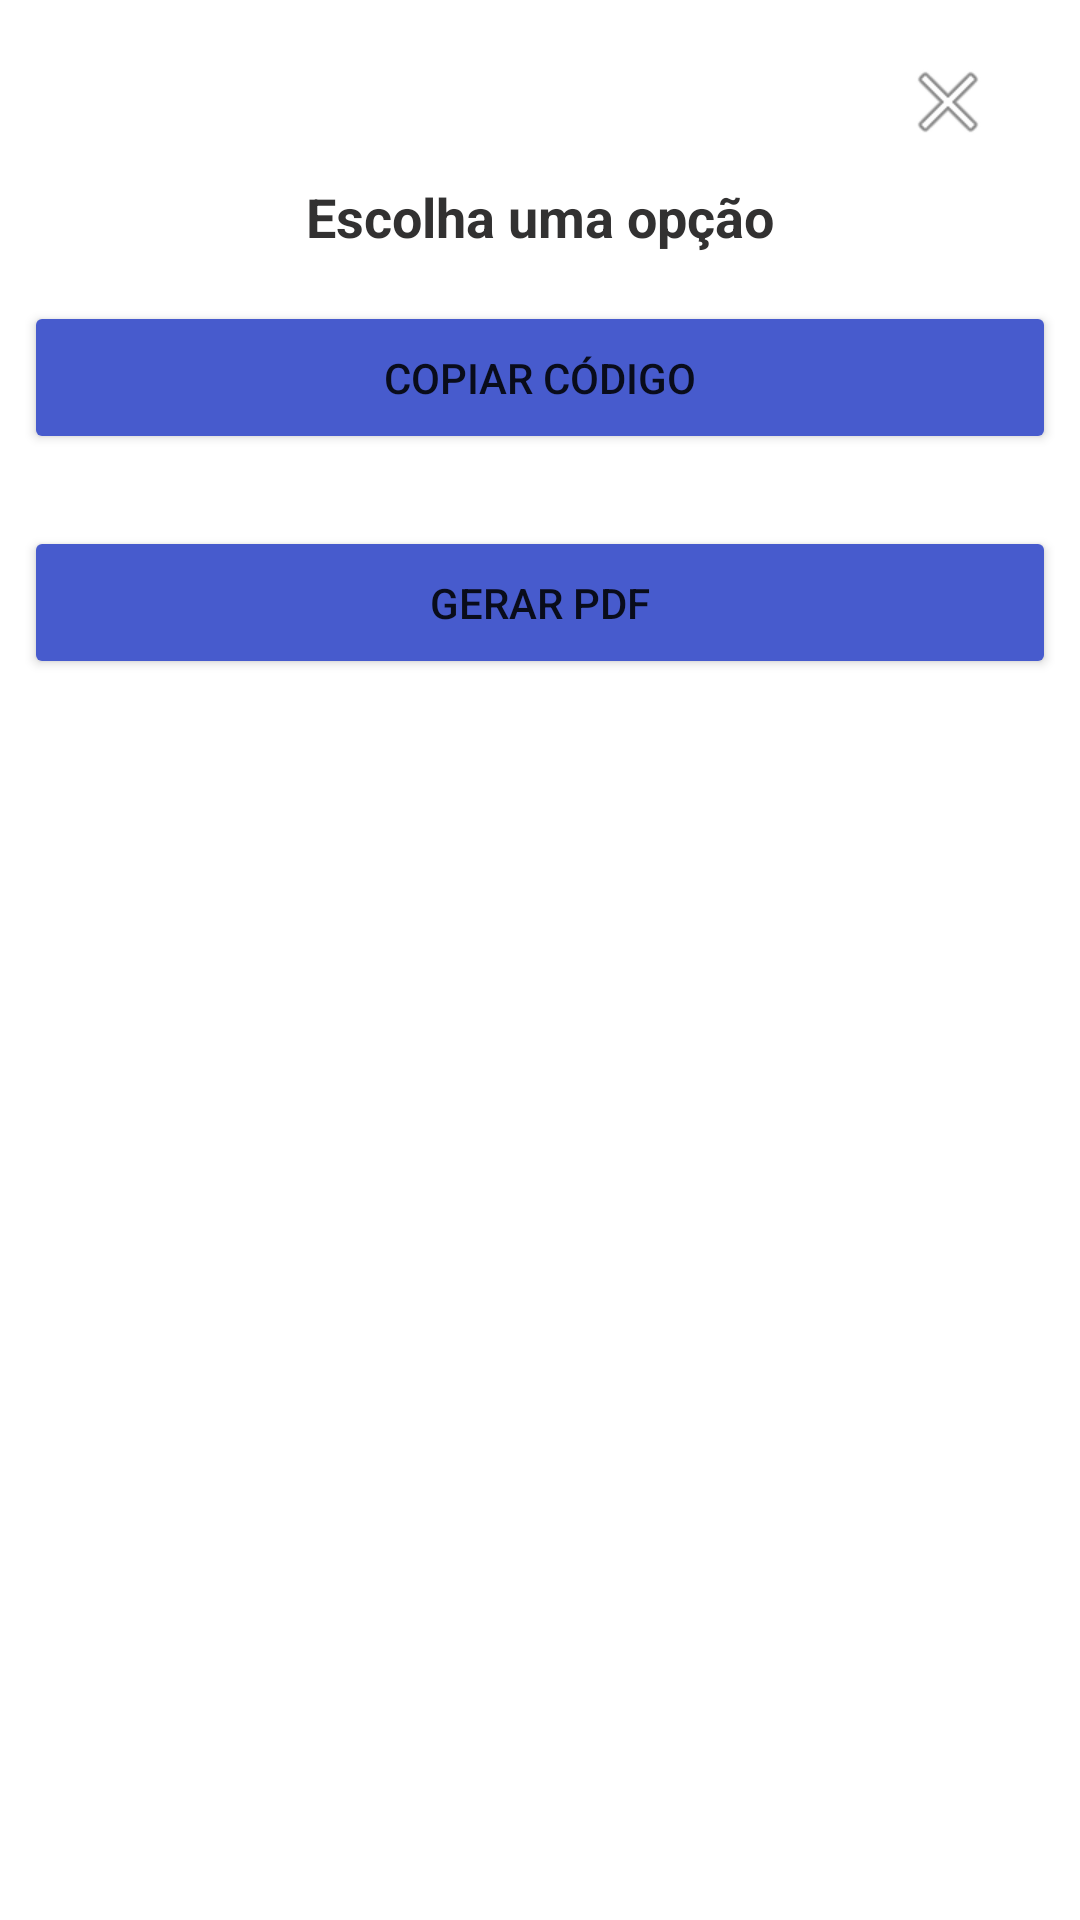

Where icons sit on this 1080 × 1920 app screen, as [x1=x1, y1=y1, x2=x2, y2=y2]:
close clear cancel: [x1=918, y1=72, x2=978, y2=132]
